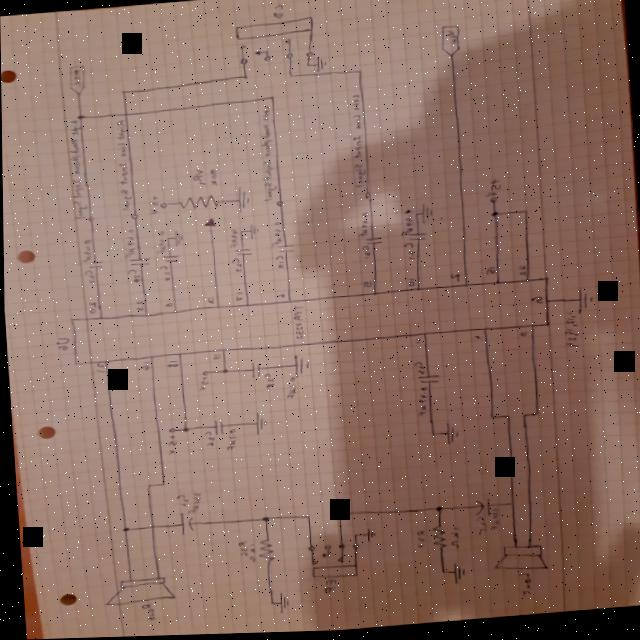capacitor: (176, 511, 193, 538), (470, 500, 491, 520), (415, 376, 441, 388), (405, 234, 425, 246), (127, 258, 149, 268), (274, 246, 295, 255), (363, 240, 383, 249), (160, 255, 177, 265), (233, 249, 251, 258), (212, 421, 222, 437), (86, 261, 102, 270), (249, 365, 259, 378)
crossover: (146, 525, 153, 531), (121, 113, 128, 119)
ground: (574, 290, 595, 319), (291, 355, 311, 381), (234, 186, 249, 215), (251, 412, 267, 437), (448, 564, 465, 587), (442, 424, 458, 447), (275, 593, 288, 616), (419, 205, 432, 228), (362, 528, 375, 546), (313, 57, 326, 75), (171, 231, 182, 249), (246, 225, 257, 241)
junction: (488, 213, 498, 221), (431, 508, 441, 516), (259, 517, 267, 525), (119, 527, 128, 534), (349, 534, 356, 541), (180, 428, 188, 434), (334, 513, 342, 519), (521, 212, 528, 218), (240, 75, 247, 81), (437, 572, 444, 578), (531, 414, 538, 420), (506, 504, 512, 510), (266, 602, 272, 608), (76, 115, 82, 121), (219, 370, 225, 375), (355, 71, 361, 76), (303, 517, 309, 522), (158, 483, 164, 488), (267, 97, 273, 102), (486, 417, 493, 421), (118, 91, 124, 95), (143, 484, 149, 488), (287, 76, 293, 80), (519, 418, 525, 422), (503, 417, 507, 422), (428, 435, 433, 439), (164, 238, 169, 242), (304, 65, 309, 69), (413, 215, 417, 219), (237, 232, 241, 236)
resistor: (176, 194, 221, 231), (256, 539, 273, 565), (429, 529, 444, 552)
terminal: (232, 18, 316, 69), (302, 543, 359, 583), (438, 27, 461, 59), (65, 64, 87, 96), (130, 214, 138, 221), (275, 202, 283, 209), (166, 429, 175, 435), (199, 372, 207, 378), (158, 203, 166, 209), (362, 195, 370, 201), (488, 201, 496, 205), (87, 218, 94, 222)
text: (253, 107, 277, 205), (65, 119, 87, 222), (346, 96, 366, 191), (112, 120, 132, 212), (287, 306, 306, 344), (561, 315, 577, 352), (412, 389, 427, 421), (121, 228, 135, 260), (398, 211, 413, 239), (268, 222, 283, 249), (515, 575, 530, 600), (282, 379, 298, 402), (183, 493, 199, 516), (77, 239, 91, 265), (355, 214, 368, 241), (447, 528, 461, 553), (484, 510, 499, 533), (138, 603, 155, 623), (153, 231, 166, 257), (483, 181, 500, 200), (145, 194, 159, 217), (223, 429, 236, 453), (225, 229, 238, 252), (472, 517, 485, 539), (443, 29, 456, 50), (52, 336, 68, 353), (190, 170, 205, 188), (401, 244, 415, 263), (243, 542, 255, 564), (270, 5, 285, 22), (413, 532, 426, 551), (164, 435, 175, 457), (124, 269, 139, 285), (194, 377, 208, 393), (229, 258, 242, 275), (156, 266, 169, 283), (234, 542, 246, 560), (320, 581, 334, 596), (411, 363, 424, 379), (526, 297, 542, 310), (261, 374, 273, 391), (201, 432, 213, 449), (71, 68, 81, 88), (206, 170, 217, 188), (359, 246, 371, 262), (173, 495, 186, 509), (85, 301, 96, 317), (515, 265, 526, 281), (83, 269, 94, 285), (274, 256, 285, 271), (138, 361, 151, 372), (165, 360, 179, 370), (447, 275, 459, 286), (404, 279, 415, 290), (232, 293, 243, 304), (92, 363, 103, 374), (133, 301, 142, 313), (209, 354, 219, 364), (484, 269, 494, 279), (360, 282, 370, 291), (274, 294, 284, 302), (163, 302, 173, 310), (516, 333, 526, 341), (205, 297, 213, 306), (412, 340, 420, 347), (472, 338, 480, 342)
